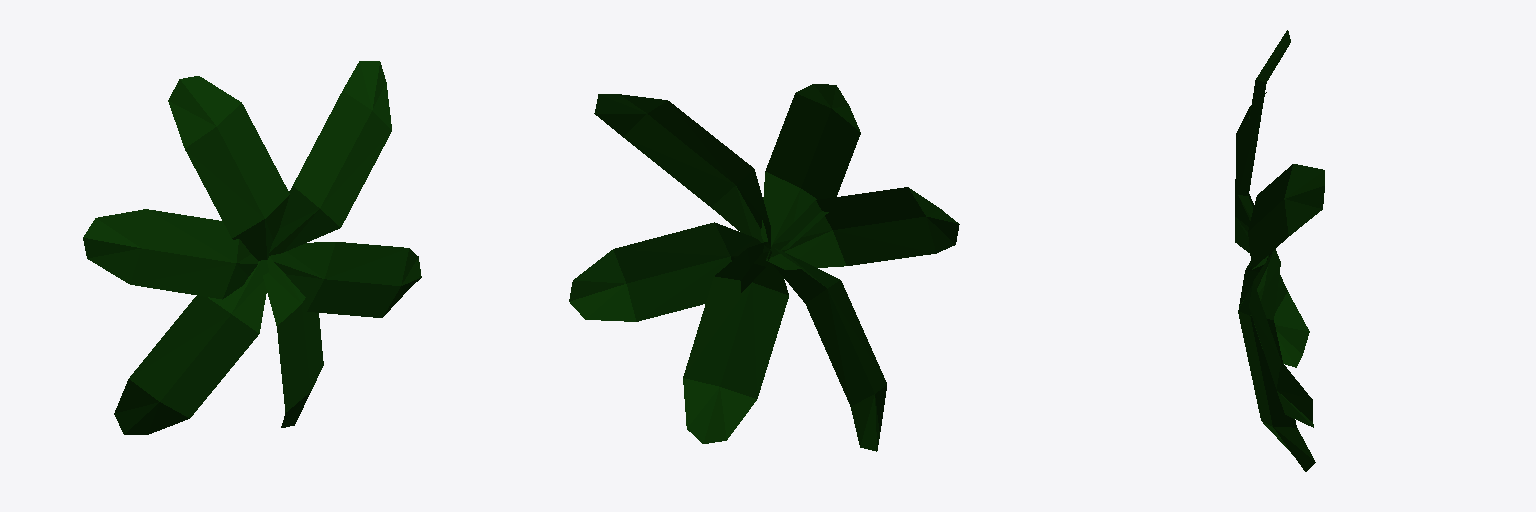
File: feuille.obj
The picture shows the model from 3 angles: view 1: azimuth 30°, elevation 25°; view 2: azimuth 150°, elevation 25°; view 3: azimuth 270°, elevation 25°; orthographic projection.
Parts seen in each view (by area): view 1: Plane.002_Plane.001, Plane.004_Plane.001, Plane.003_Plane.001, Plane.006_Plane.001, Plane.005_Plane.001, Plane.001; view 2: Plane.001, Plane.005_Plane.001, Plane.003_Plane.001, Plane.006_Plane.001, Plane.004_Plane.001, Plane.002_Plane.001; view 3: Plane.006_Plane.001, Plane.001, Plane.005_Plane.001, Plane.002_Plane.001, Plane.004_Plane.001, Plane.003_Plane.001.
Part boxes in pixels (x1,y1,x2,y2): Plane.002_Plane.001: (114, 260, 268, 434); Plane.004_Plane.001: (168, 76, 289, 260); Plane.003_Plane.001: (83, 209, 258, 299); Plane.006_Plane.001: (269, 61, 391, 255); Plane.005_Plane.001: (270, 242, 421, 317); Plane.001: (263, 256, 323, 427); Plane.001: (683, 242, 788, 443); Plane.005_Plane.001: (569, 222, 771, 321); Plane.003_Plane.001: (766, 187, 959, 269); Plane.006_Plane.001: (594, 94, 770, 245); Plane.004_Plane.001: (761, 84, 860, 250); Plane.002_Plane.001: (773, 248, 886, 451); Plane.006_Plane.001: (1248, 164, 1324, 269); Plane.001: (1238, 249, 1315, 471); Plane.005_Plane.001: (1249, 253, 1313, 427); Plane.002_Plane.001: (1239, 258, 1309, 367); Plane.004_Plane.001: (1238, 30, 1290, 257); Plane.003_Plane.001: (1235, 92, 1266, 252).
Bounding box in the file's own units: 31.2 × 31.34 × 6.73.